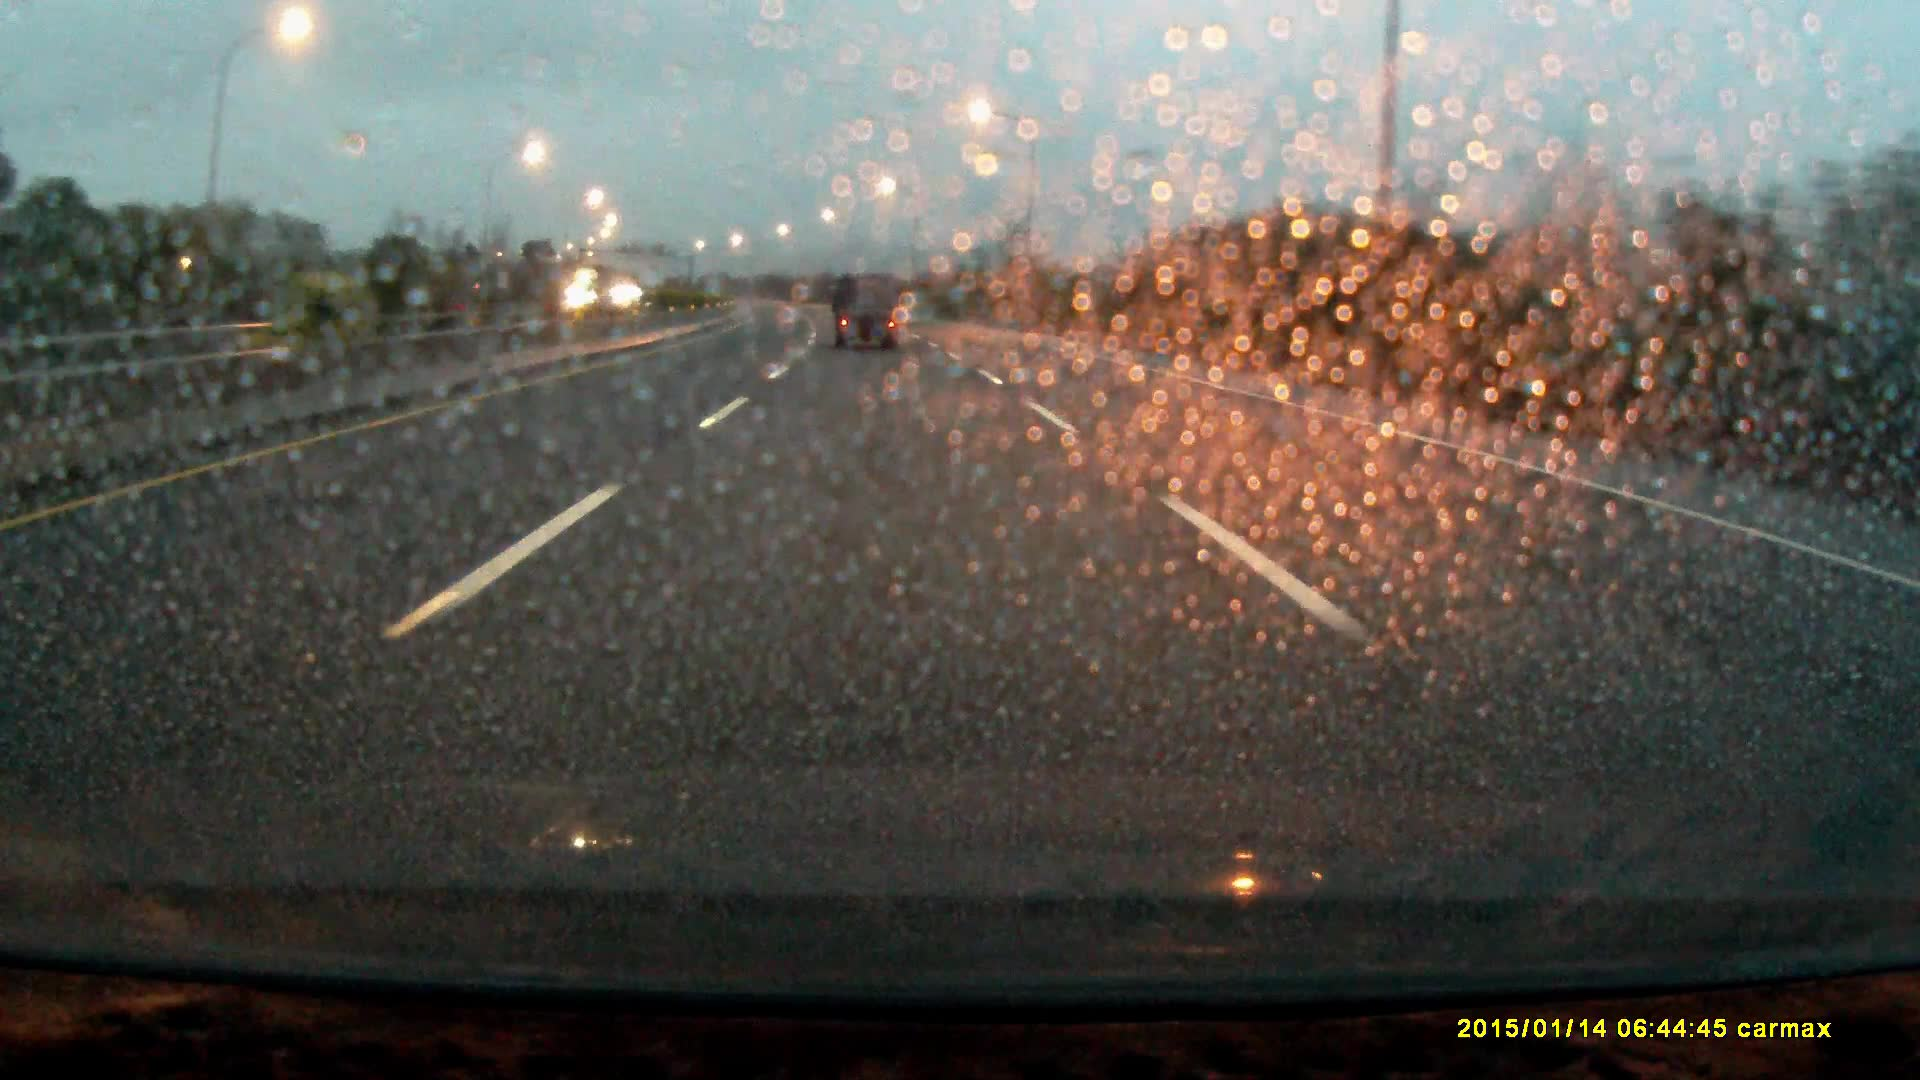vehicle: (832, 276, 902, 355), (568, 268, 636, 320)
